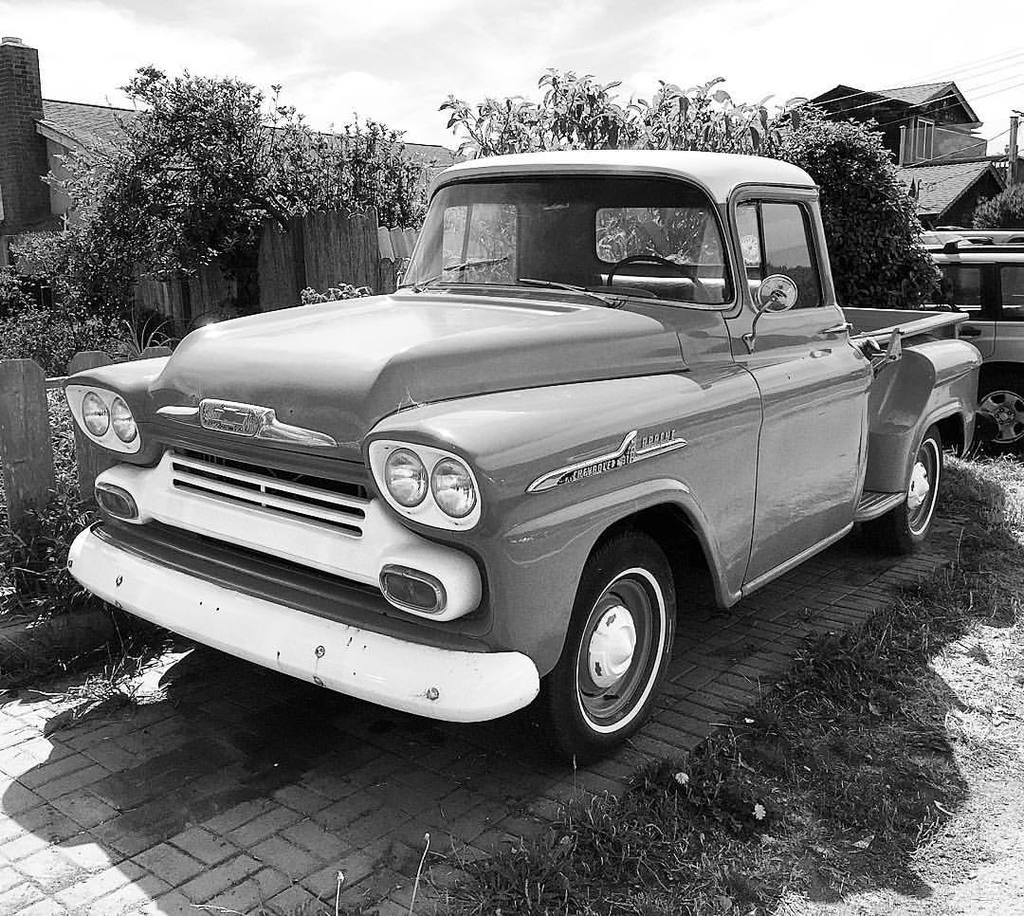Truck: (61, 150, 984, 764)
